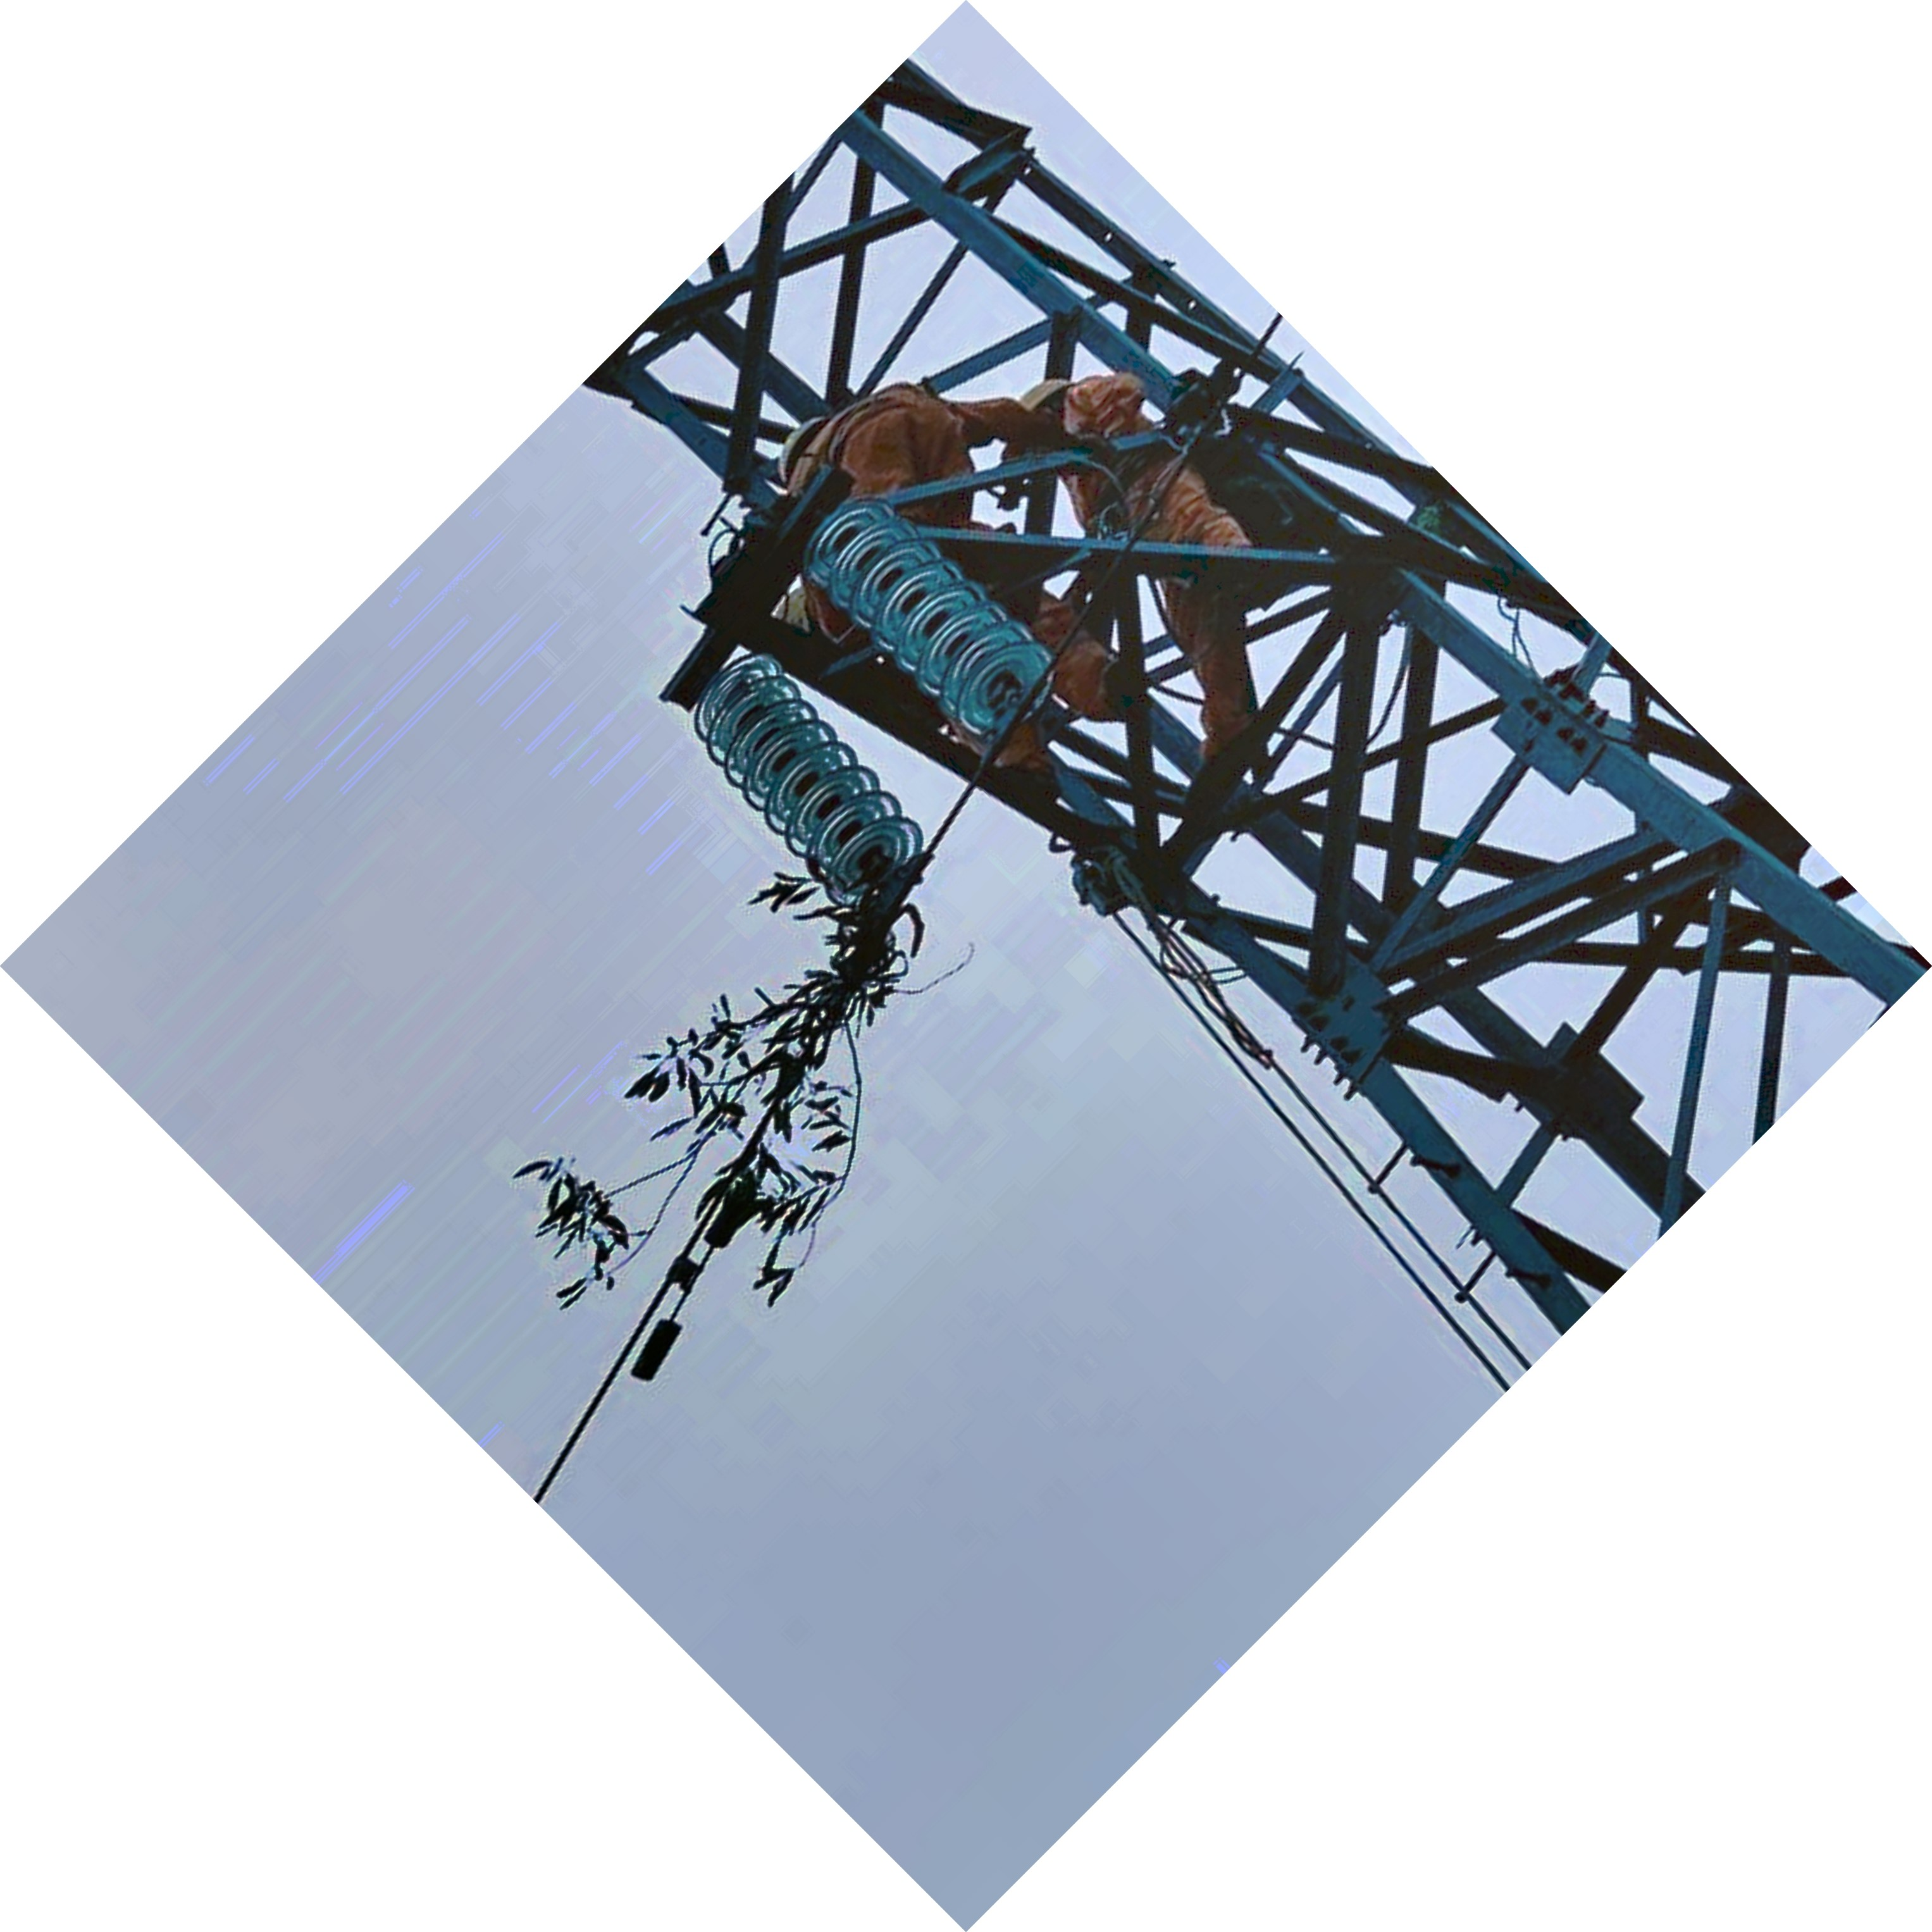wire foreign body: (582, 878, 968, 1299)
